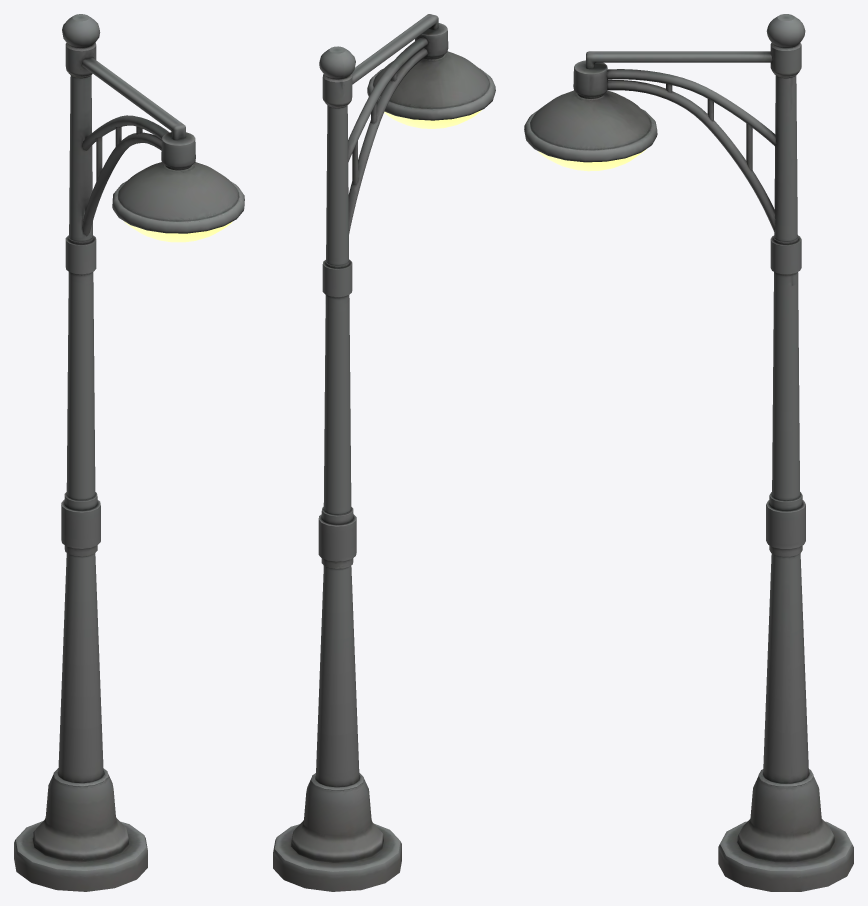
The picture shows the model from 3 angles, left to right: view 1: azimuth 30°, elevation 25°; view 2: azimuth 150°, elevation 25°; view 3: azimuth 270°, elevation 25°; orthographic projection. The views are drawn at different scales.
Parts seen in each view (by area): view 1: SM_Street_Light; view 2: SM_Street_Light; view 3: SM_Street_Light.
Boxes of the visible parts, box(x1,y1,x2,y2) form: SM_Street_Light: box(14, 14, 244, 891); SM_Street_Light: box(273, 14, 495, 891); SM_Street_Light: box(524, 14, 853, 891).
Bounding box in the file's own units: 0.4273 × 2.99 × 1.06.
Materials: 2 (2 with a texture image).
